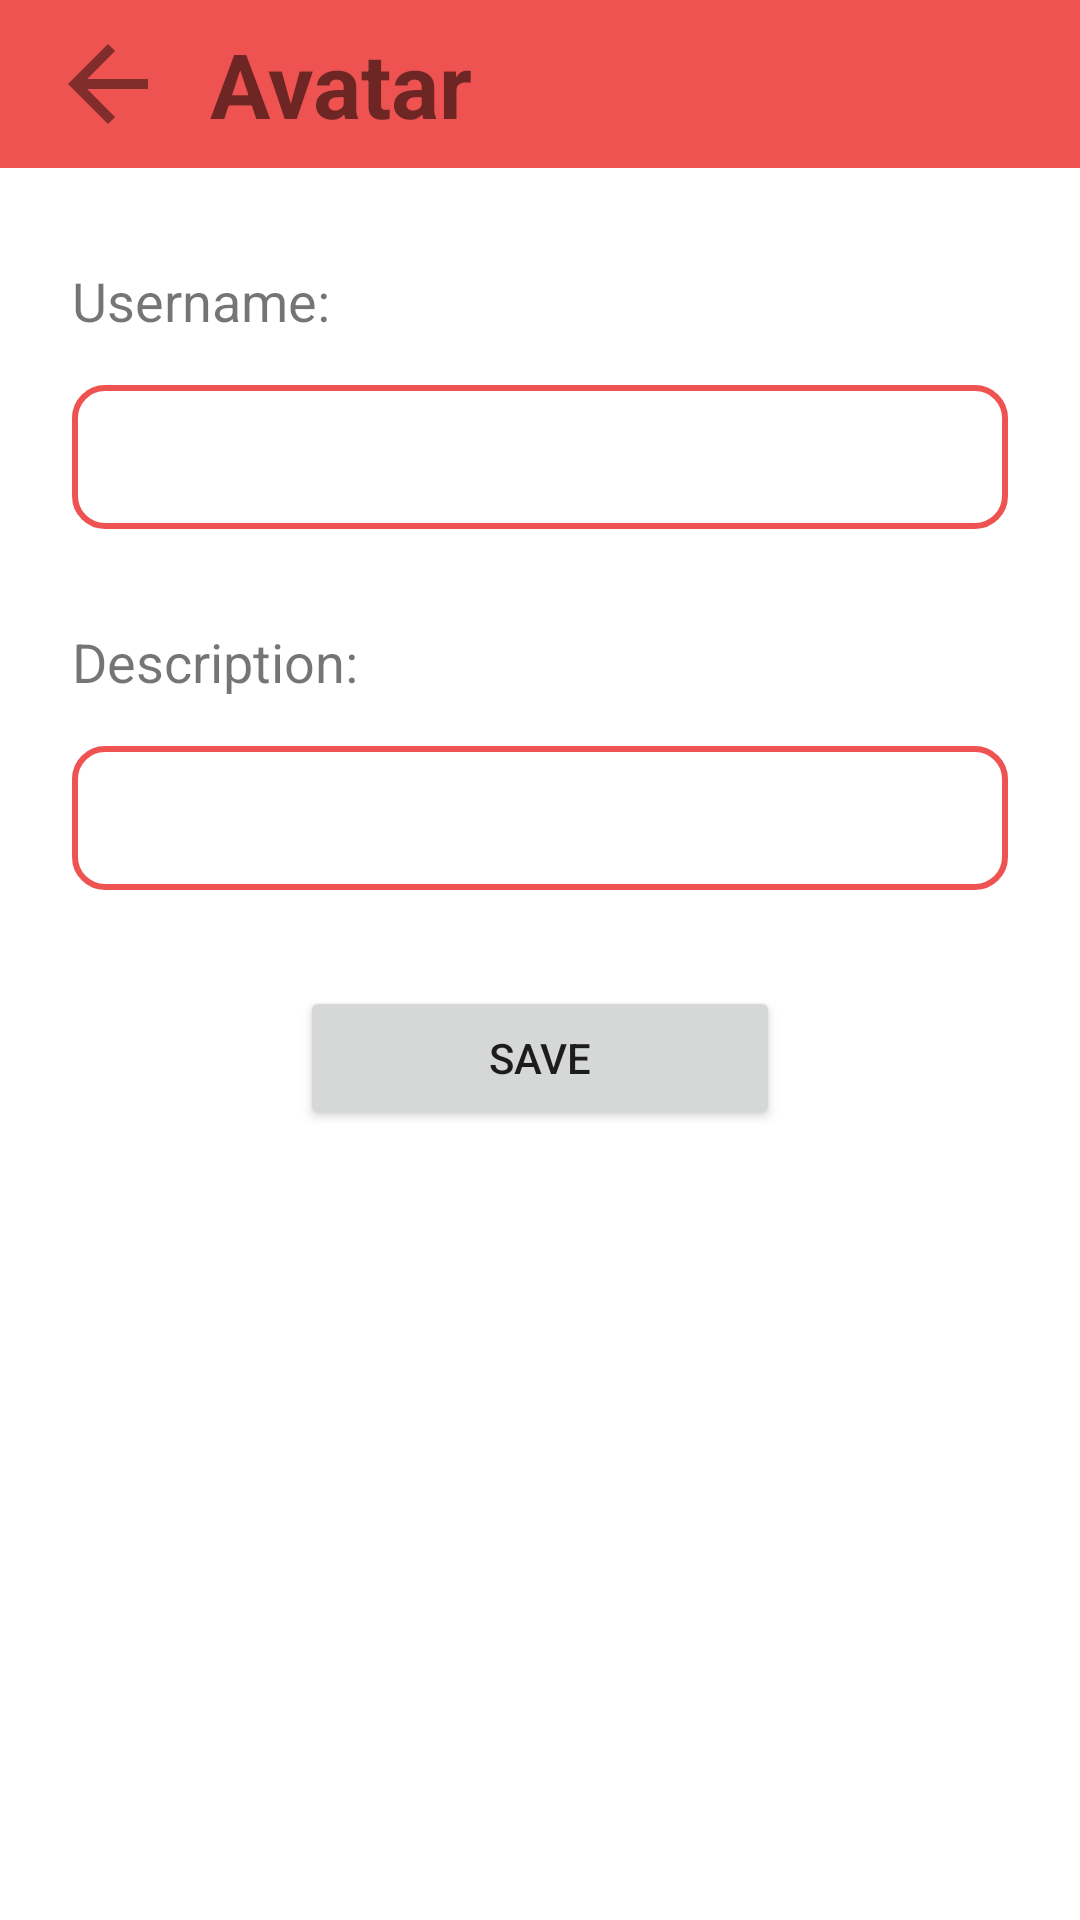

Icon click points for this 1080 x 1920 phone screenshot, format (x,y):
back arrow: (108,84)
